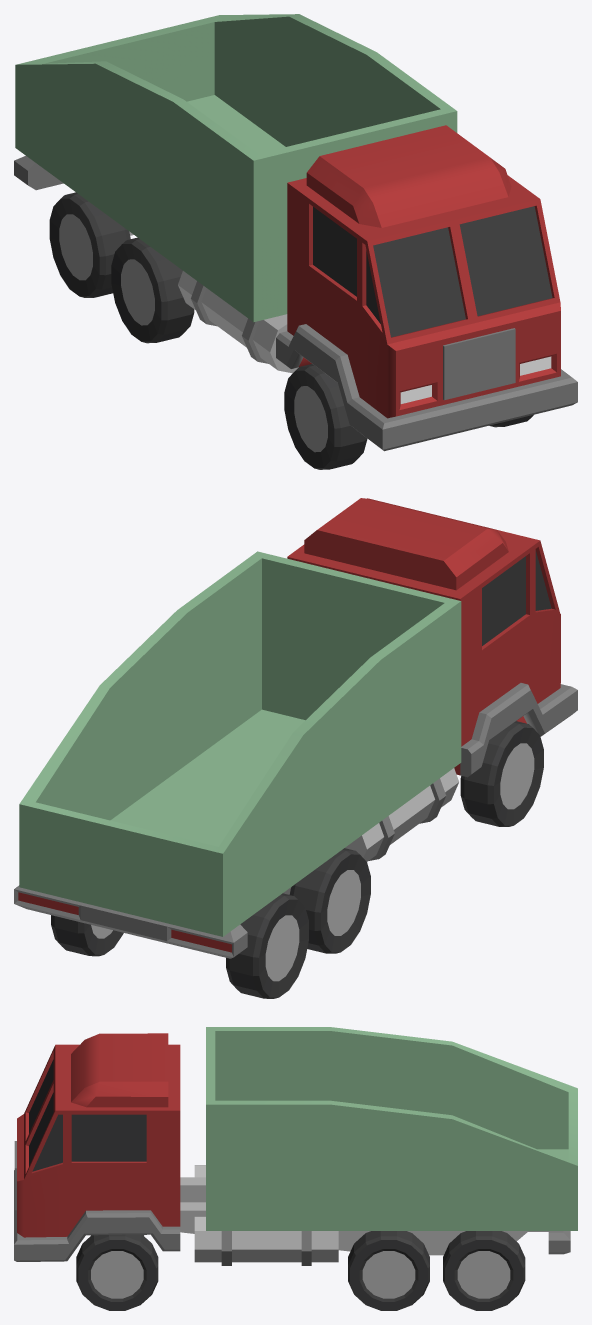
Rendered from Track_03.fbx.
3 views of the same model, one above another, from view 1: azimuth 30°, elevation 25°; view 2: azimuth 150°, elevation 25°; view 3: azimuth 270°, elevation 25° (orthographic). The views are drawn at different scales.
Visible parts, largest first — view 1: Gruzovik_V3; view 2: Gruzovik_V3; view 3: Gruzovik_V3.
Boxes of the visible parts, bbox=[...] form: Gruzovik_V3: bbox=[14, 14, 577, 469]; Gruzovik_V3: bbox=[14, 498, 577, 998]; Gruzovik_V3: bbox=[14, 1027, 577, 1310].
Bounding box in the file's own units: 127 × 152 × 360.
